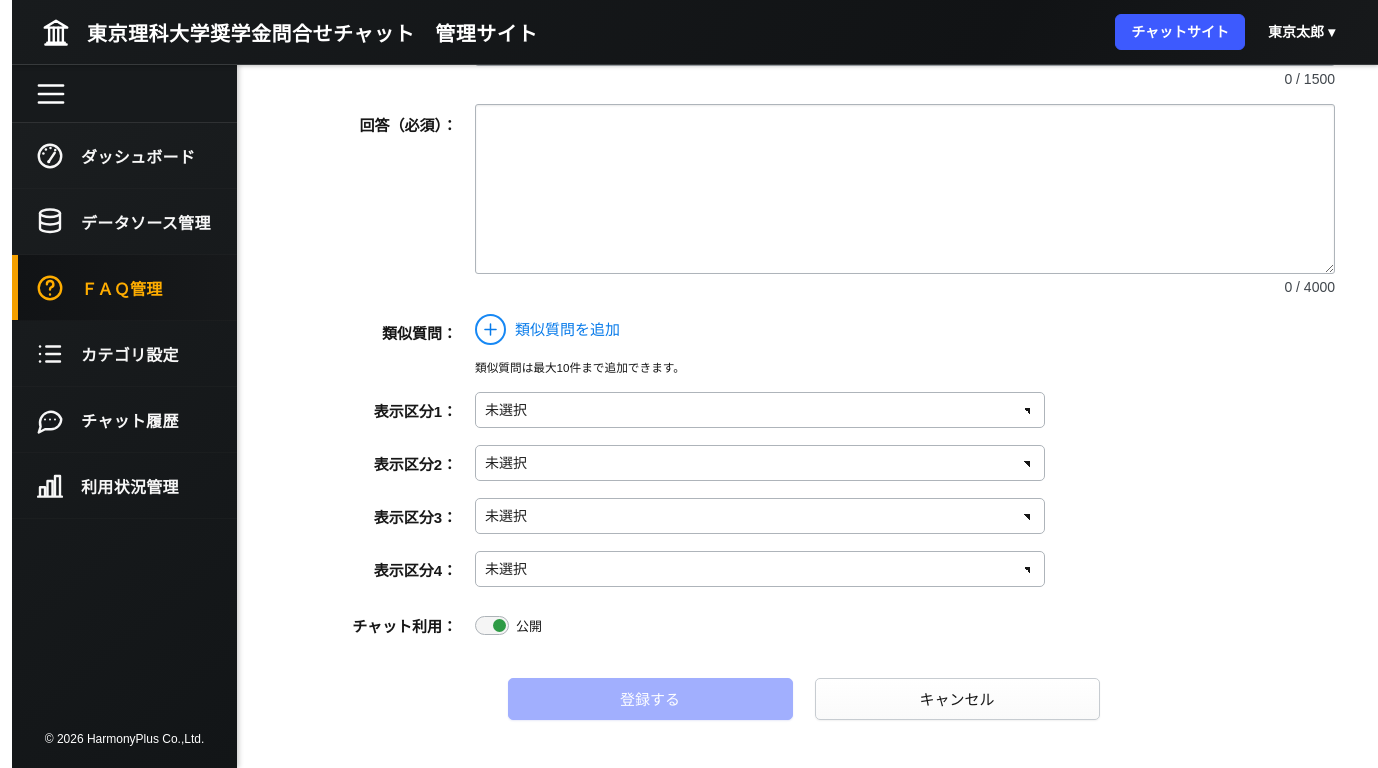
Test: CB-209 FAQ registration › 動的な4区分と値0件を表示し、Toggleを変更できる
(page scrolled)
Expected: the dropdown named "表示区分1" is shown, [475,392,1045,428]
Step 1. Click the switch → click(492, 625), box [475,616,1340,634]
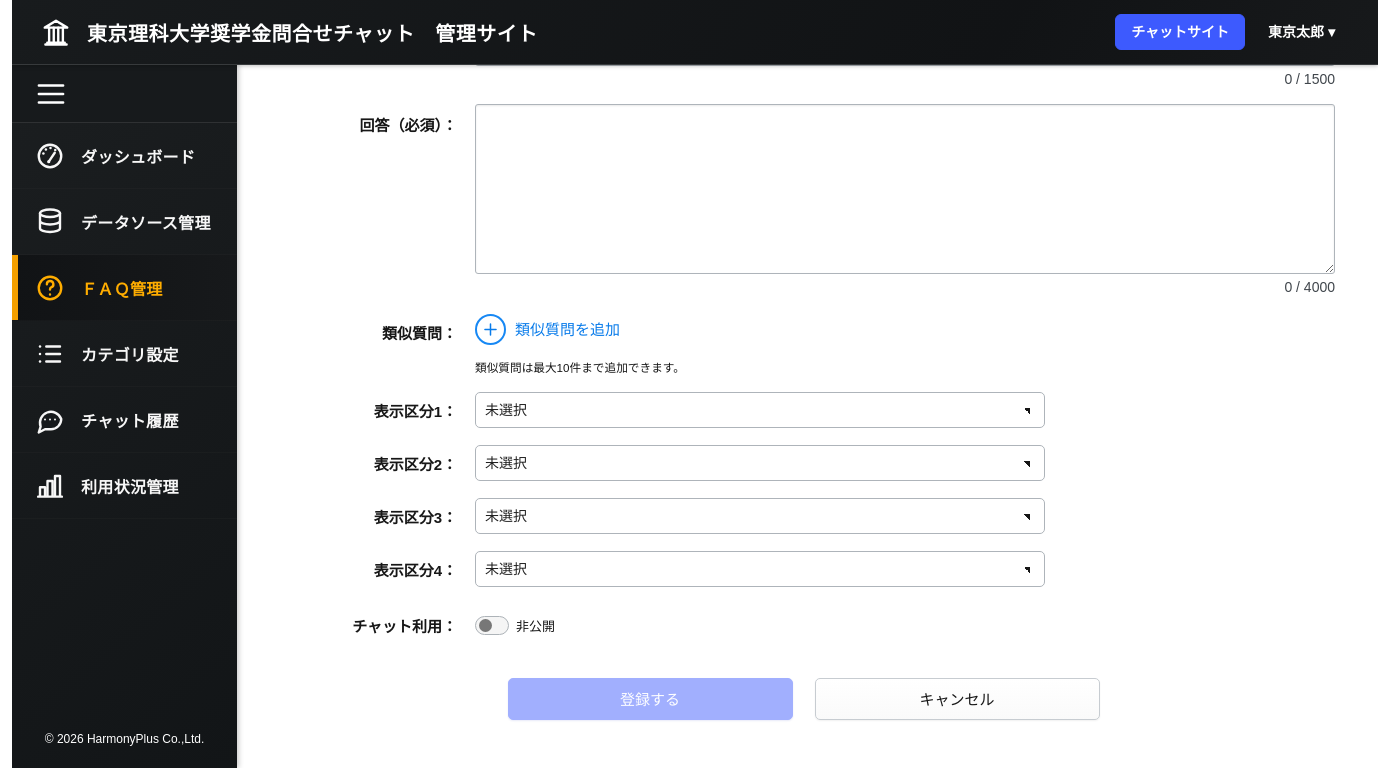
Expected: the text "非公開" is shown, [516,616,555,634]
